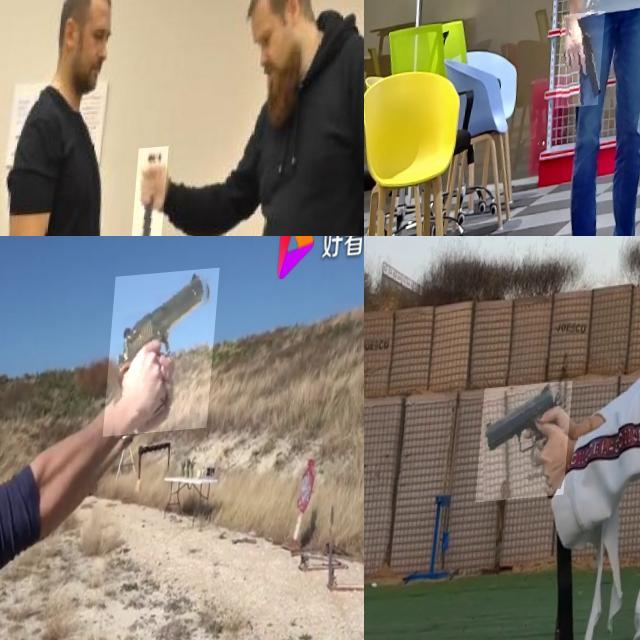-: (135, 151, 174, 236)
gun-knife-thesis - v11 Yolov5 augmented: (107, 276, 221, 443), (484, 386, 579, 506), (562, 17, 610, 115)
